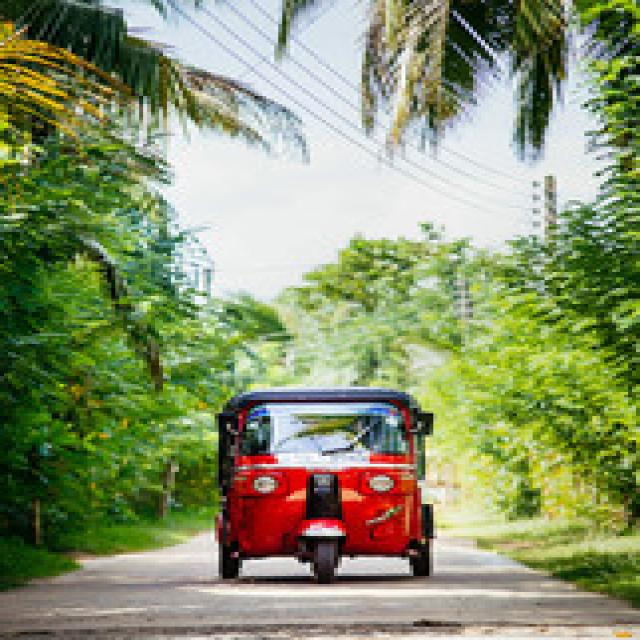three wheeler: (215, 387, 429, 581)
